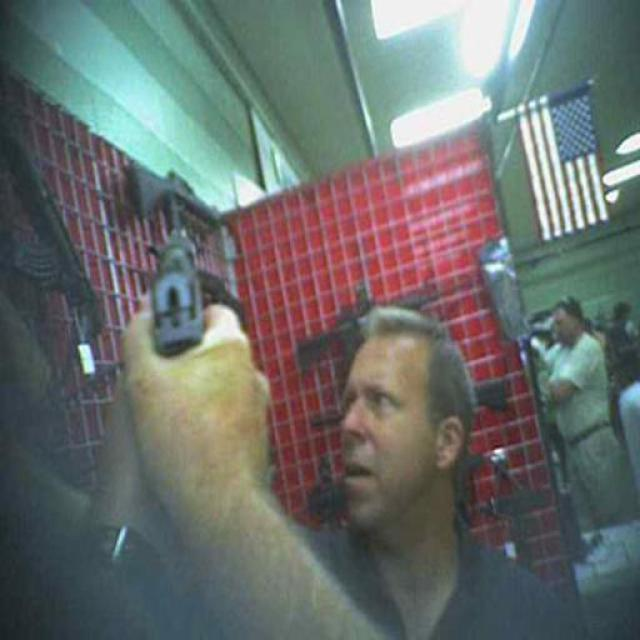pistol: (132, 221, 215, 357)
